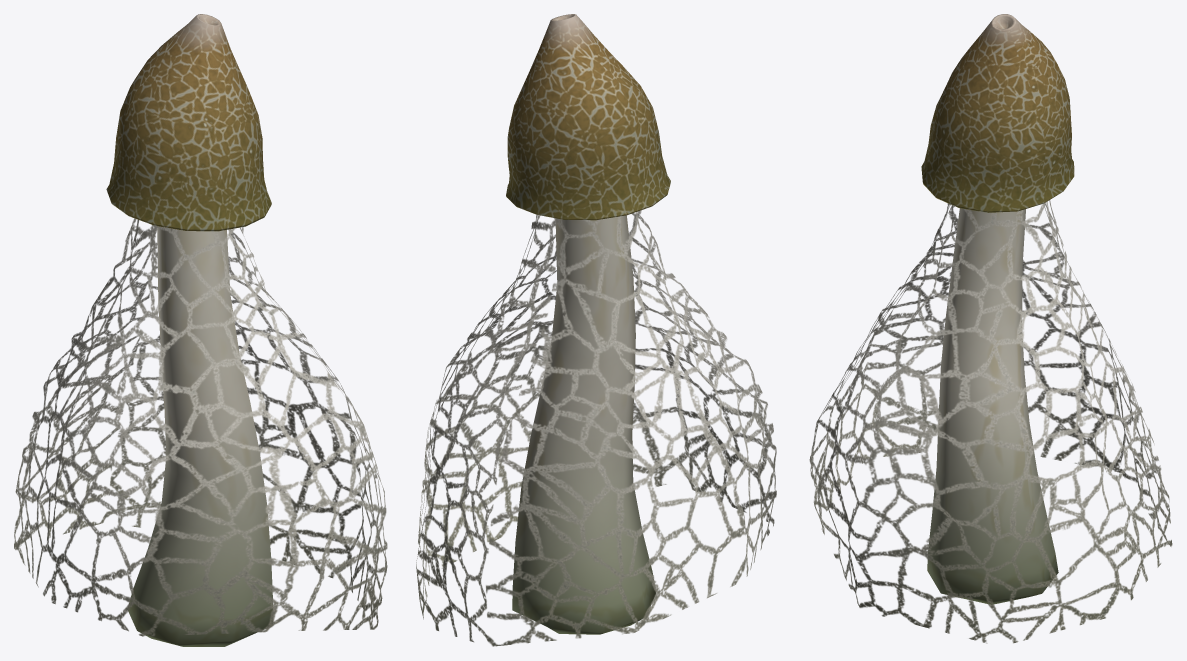
The model's file is low_poly_mushroom_phallus_indusiatus.glb.
The picture shows the model from 3 angles, left to right: view 1: azimuth 30°, elevation 25°; view 2: azimuth 150°, elevation 25°; view 3: azimuth 270°, elevation 25°; orthographic projection. The views are drawn at different scales.
Parts seen in each view (by area): view 1: Cloak_low, Stipe_low, pileus_low; view 2: Cloak_low, Stipe_low, pileus_low; view 3: Cloak_low, Stipe_low, pileus_low.
Part boxes in pixels (box(x1,y1,x2,y2)): Cloak_low: box(14, 218, 387, 636); Stipe_low: box(128, 227, 272, 646); pileus_low: box(106, 14, 271, 231); Cloak_low: box(416, 210, 776, 646); Stipe_low: box(512, 215, 655, 634); pileus_low: box(506, 14, 670, 220); Cloak_low: box(809, 200, 1172, 643); Stipe_low: box(927, 208, 1058, 604); pileus_low: box(921, 14, 1074, 212).
Bounding box in the file's own units: 0.0466 × 0.0844 × 0.0487.
Materials: 1 (1 with a texture image).
